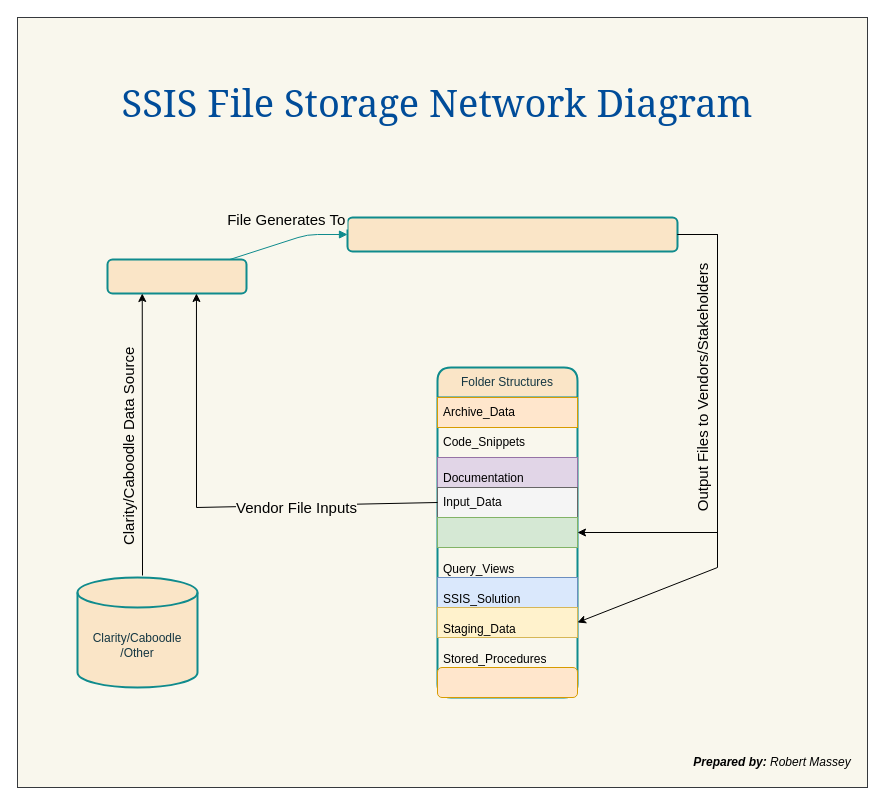
Some shapes in this 885 by 805 pixel diagram are drawn without their labels. Here are the shapes that lost their labels. From the top down, the centre of each, then its label:
point 512,234: \\Storage_Server\scrmc_custom\scrmc_to_vendor\
point 176,276: SSIS DB SERVER
point 507,532: Output_Data
point 507,682: Templates
